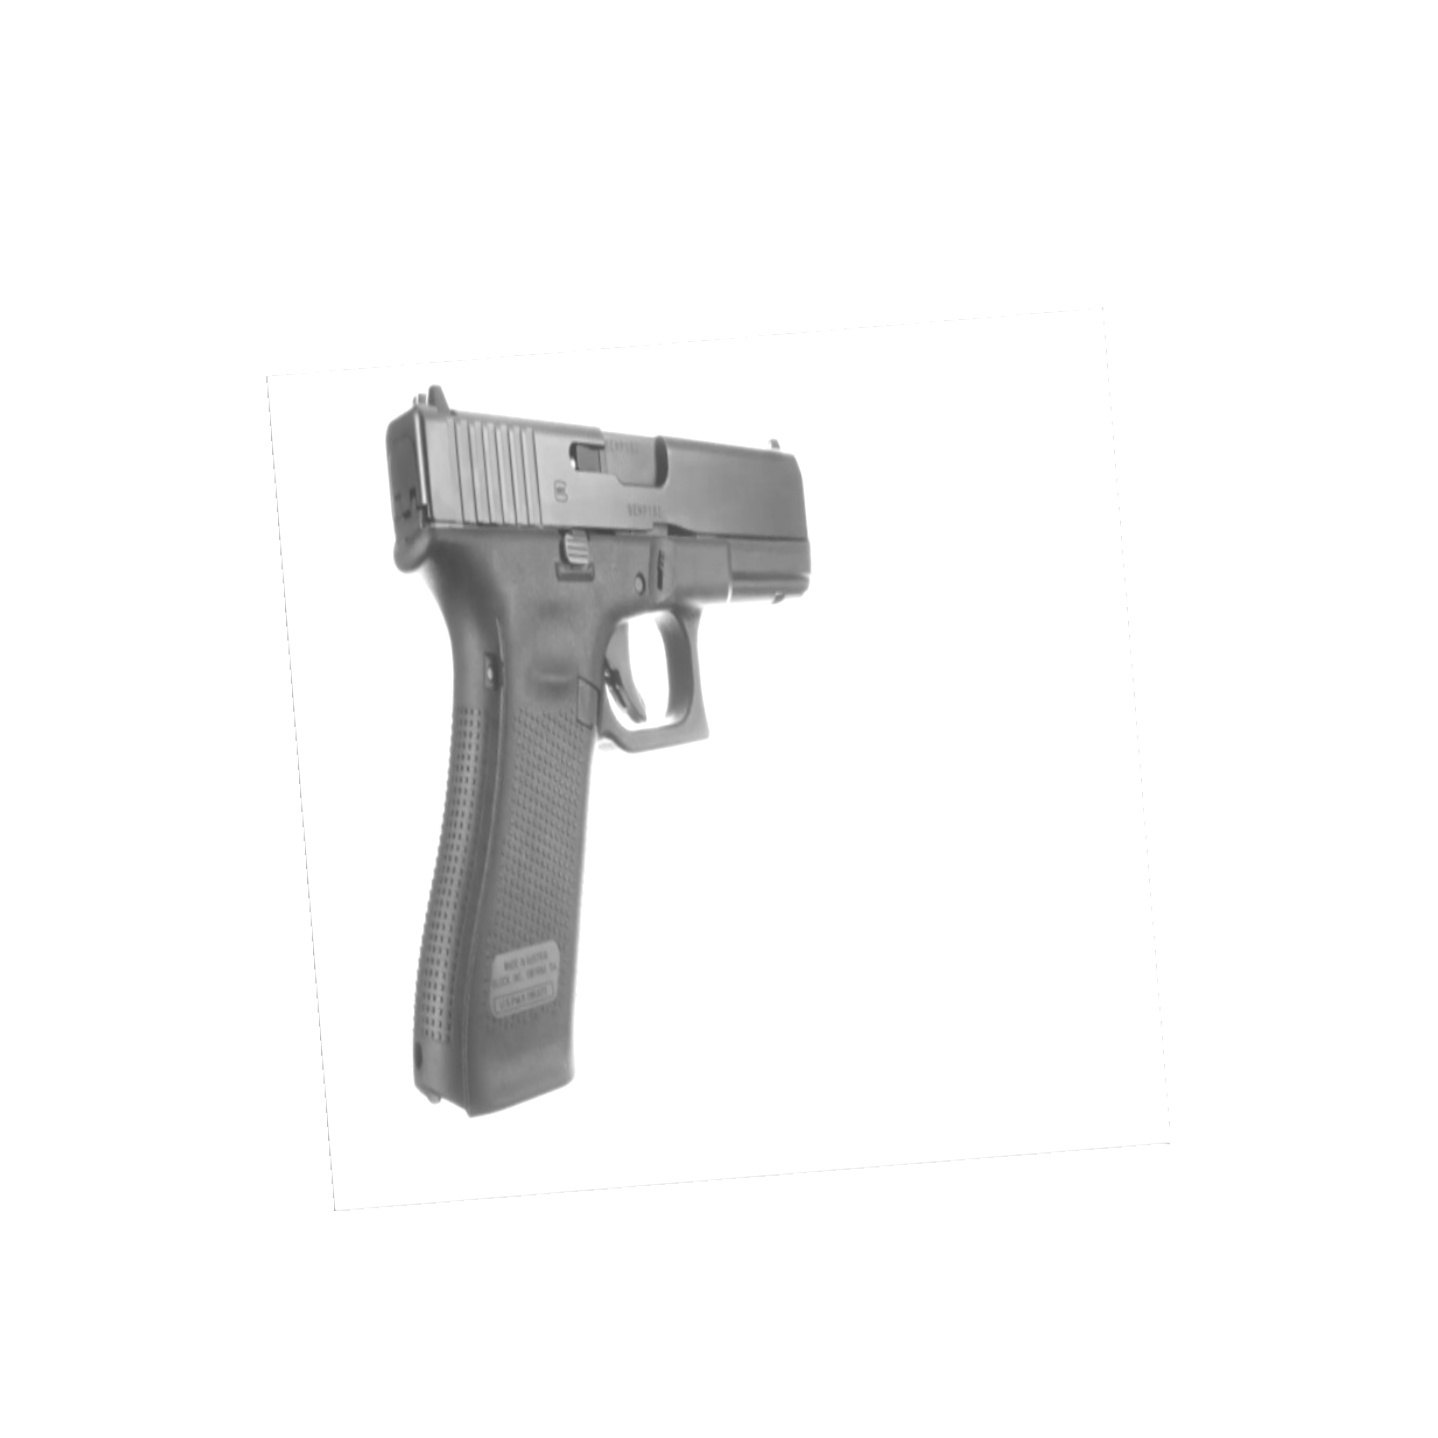gun: (367, 385, 823, 1119)
